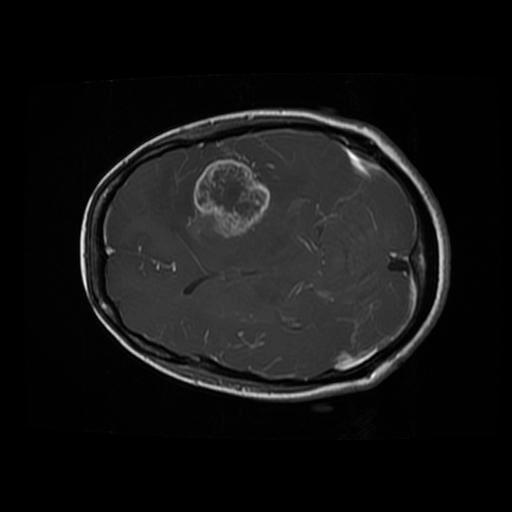glioma: (183, 156, 272, 244)
